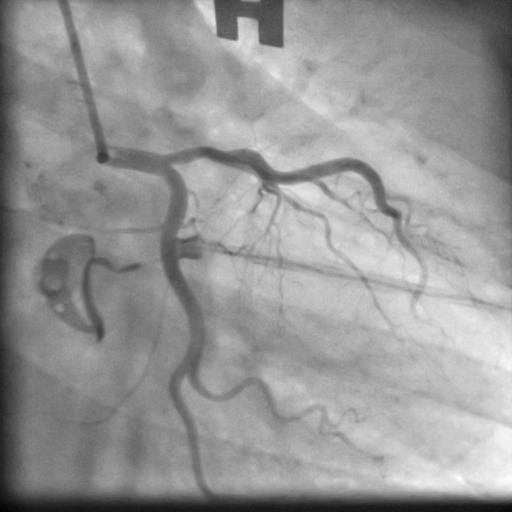Stenosis: (181, 143, 230, 161)
